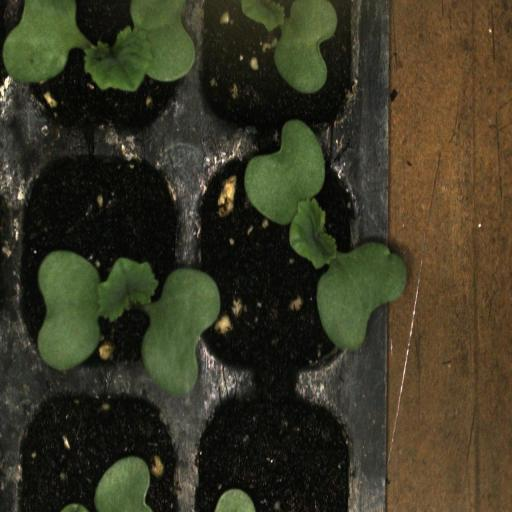Folha: (234, 0, 338, 94), (62, 456, 152, 512)
Germinacao: (189, 142, 374, 380), (14, 142, 191, 376), (27, 0, 187, 151)
